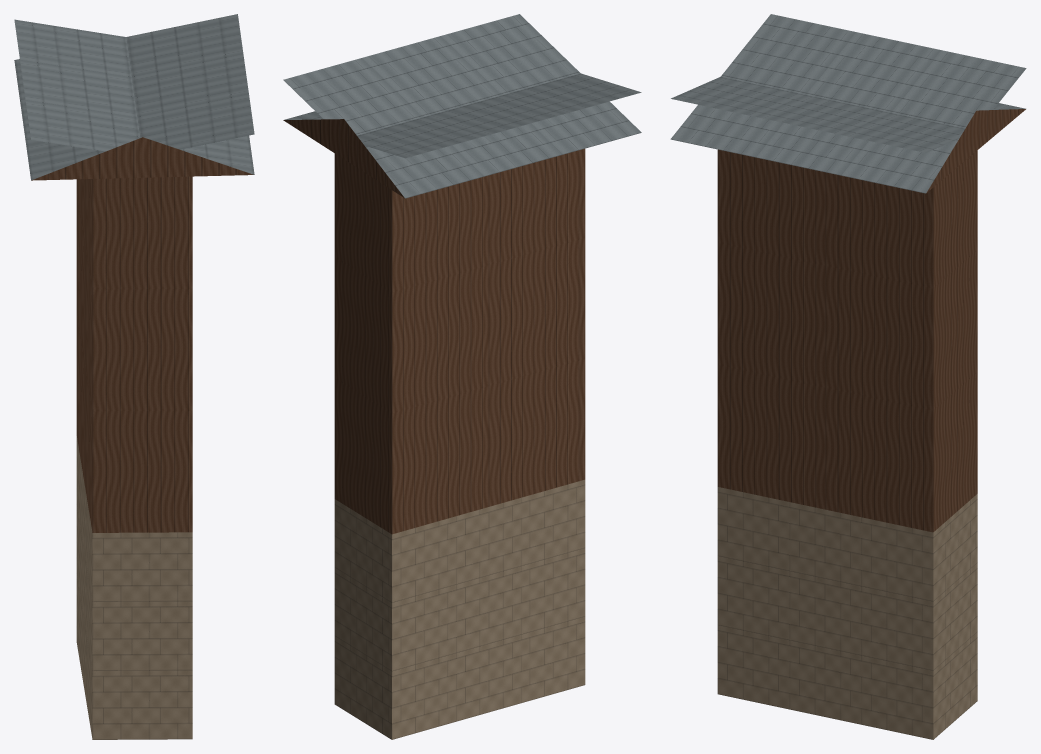
The model's file is bld_c-3_0_543.gltf.
3 renders of one model, left to right at view 1: azimuth 30°, elevation 25°; view 2: azimuth 150°, elevation 25°; view 3: azimuth 270°, elevation 25°, orthographic.
Parts seen in each view (by area): view 1: bld_c-3_0_543; view 2: bld_c-3_0_543; view 3: bld_c-3_0_543.
Part boxes in pixels (left/top/right/bottom): bld_c-3_0_543: left=14, top=14, right=254, bottom=739; bld_c-3_0_543: left=283, top=14, right=641, bottom=739; bld_c-3_0_543: left=670, top=14, right=1026, bottom=739.
Size of the model in its own units: 7.33 by 15.1 by 7.94.
Materials: 4 (4 with a texture image).
